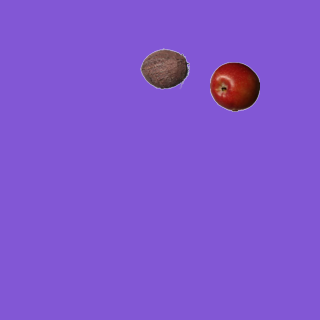Apple Braeburn: (209, 61, 259, 111)
Cocos: (139, 43, 189, 93)
